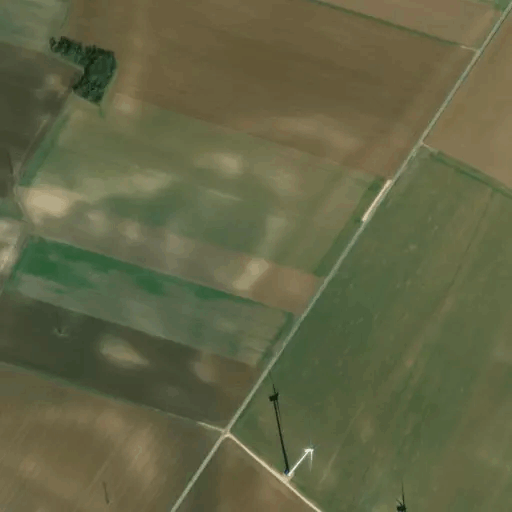wt: (251, 371, 320, 488)
